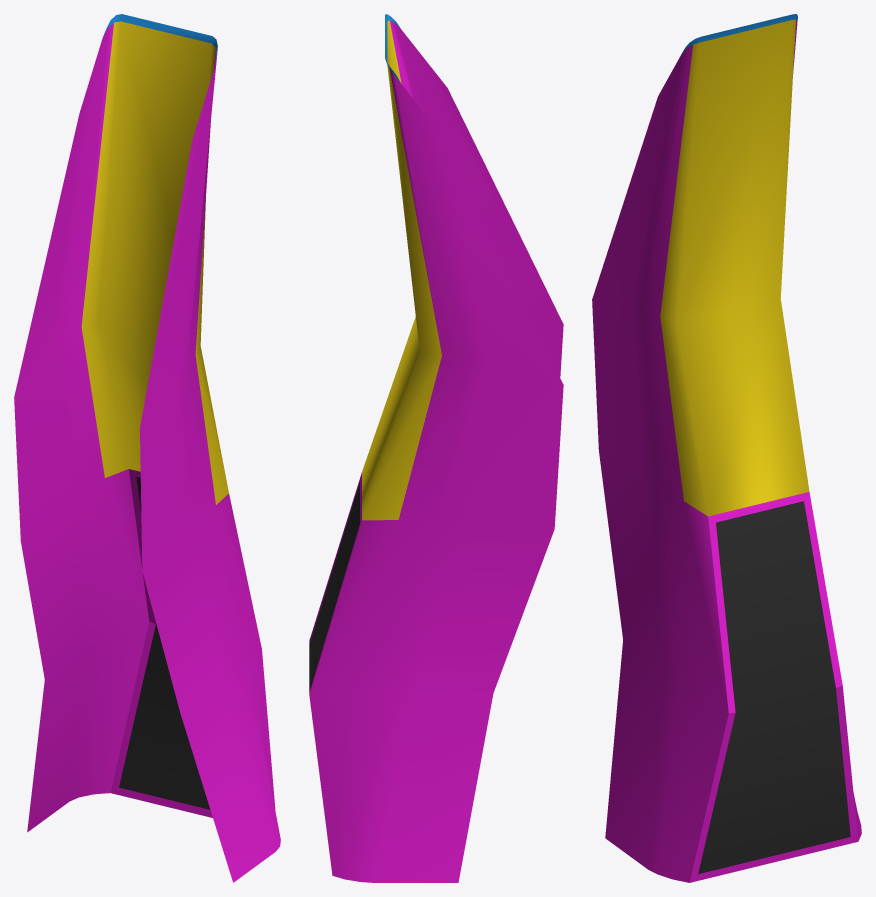
Rendered from Progeny Corporate Building.FBX.
3 renders of one model, left to right at view 1: azimuth 30°, elevation 25°; view 2: azimuth 150°, elevation 25°; view 3: azimuth 270°, elevation 25°, orthographic. The views are drawn at different scales.
Parts seen in each view (by area): view 1: ChamferBox001; view 2: ChamferBox001; view 3: ChamferBox001.
Boxes of the visible parts, x1=… form: ChamferBox001: x1=14, y1=14, x2=280, y2=882; ChamferBox001: x1=309, y1=14, x2=563, y2=882; ChamferBox001: x1=592, y1=14, x2=861, y2=882.
Size of the model in its own units: 4279 by 13081 by 3914.
